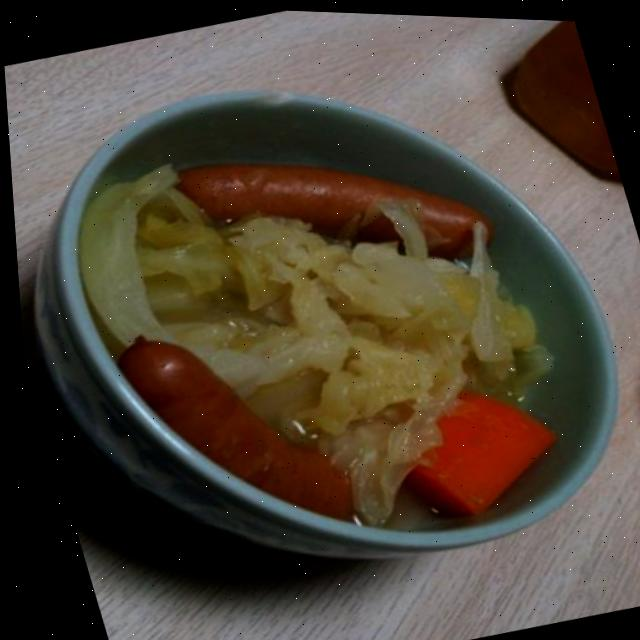汤锅炖物: (1, 18, 640, 630)
